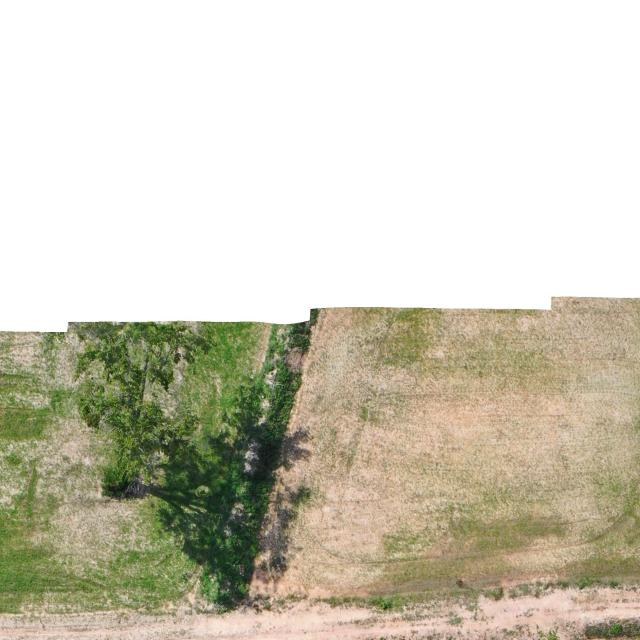Tree: (66, 320, 217, 499)
